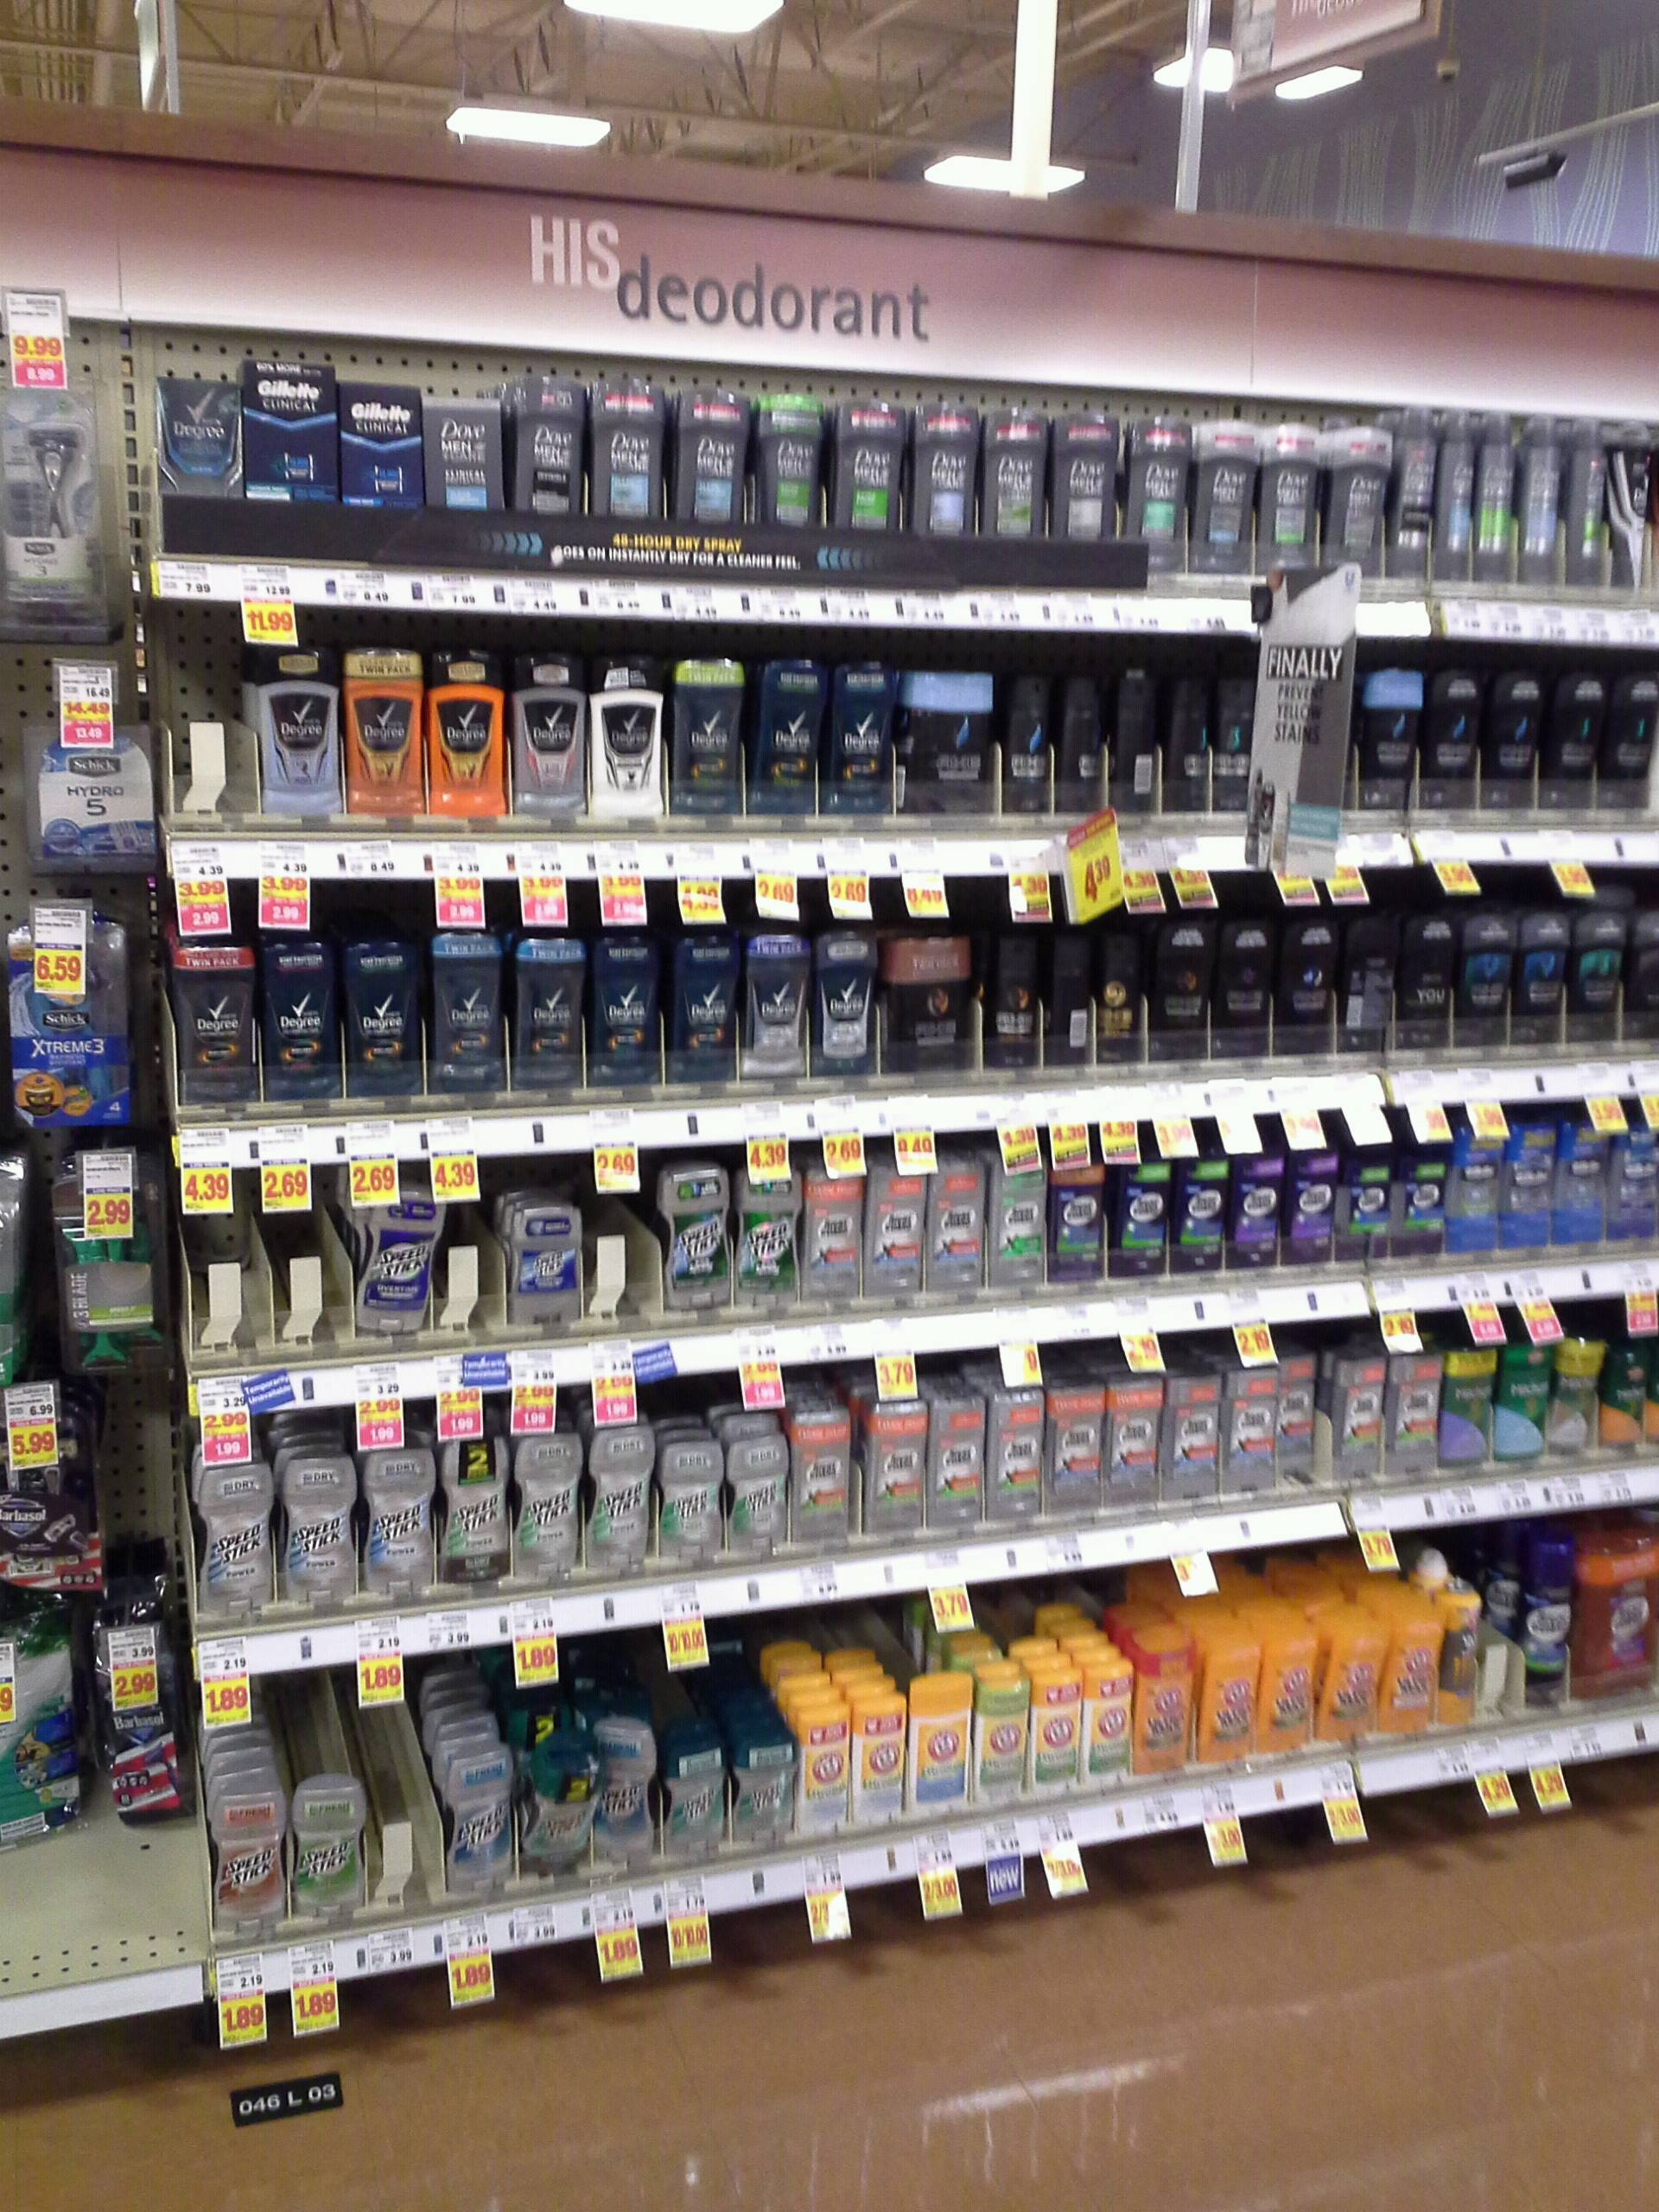Out-of-stock: (155, 597, 263, 827)
